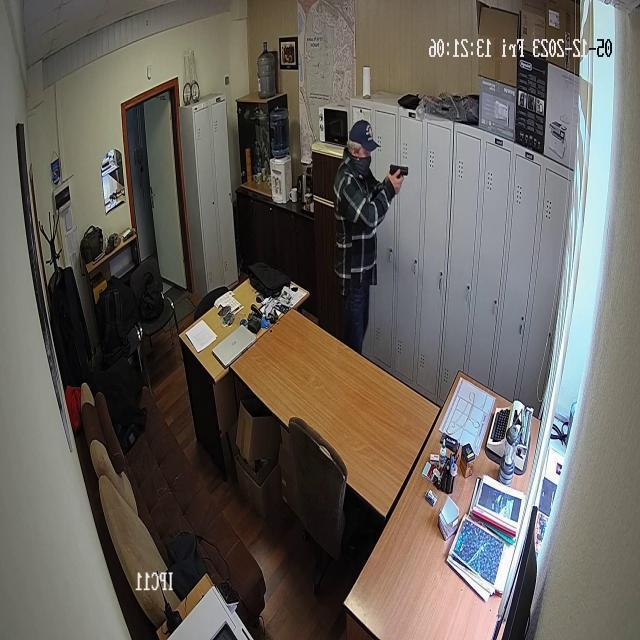pistol: (385, 161, 410, 189)
